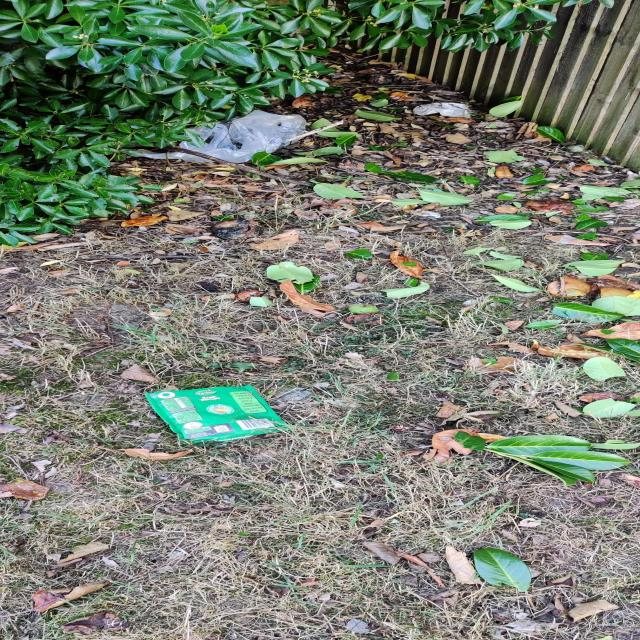litter: (141, 382, 293, 443)
